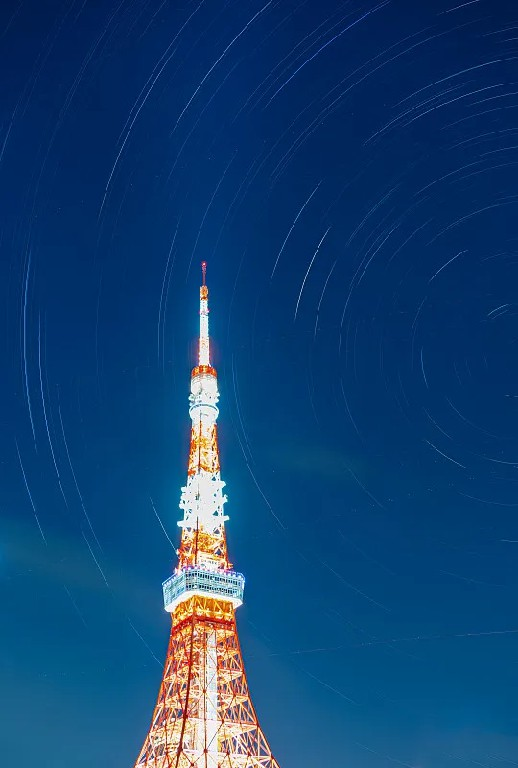Tokyo: (133, 259, 279, 768)
